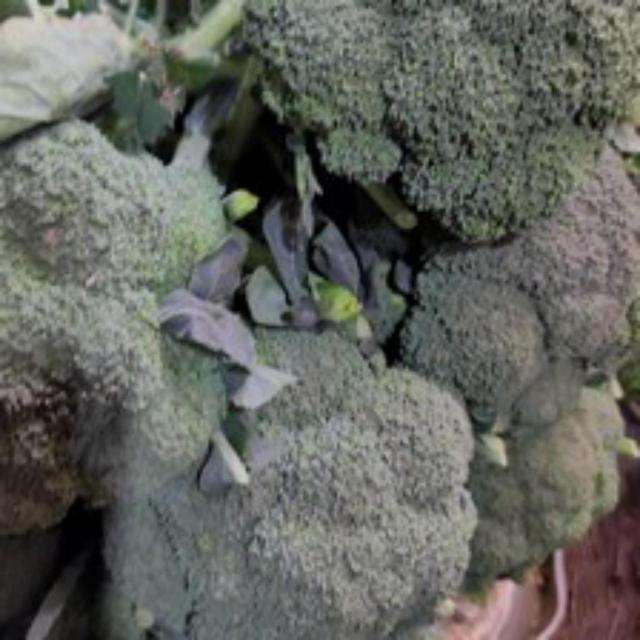broccoli: (251, 0, 637, 266)
